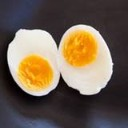begg: (61, 24, 113, 94), (9, 29, 57, 95)
